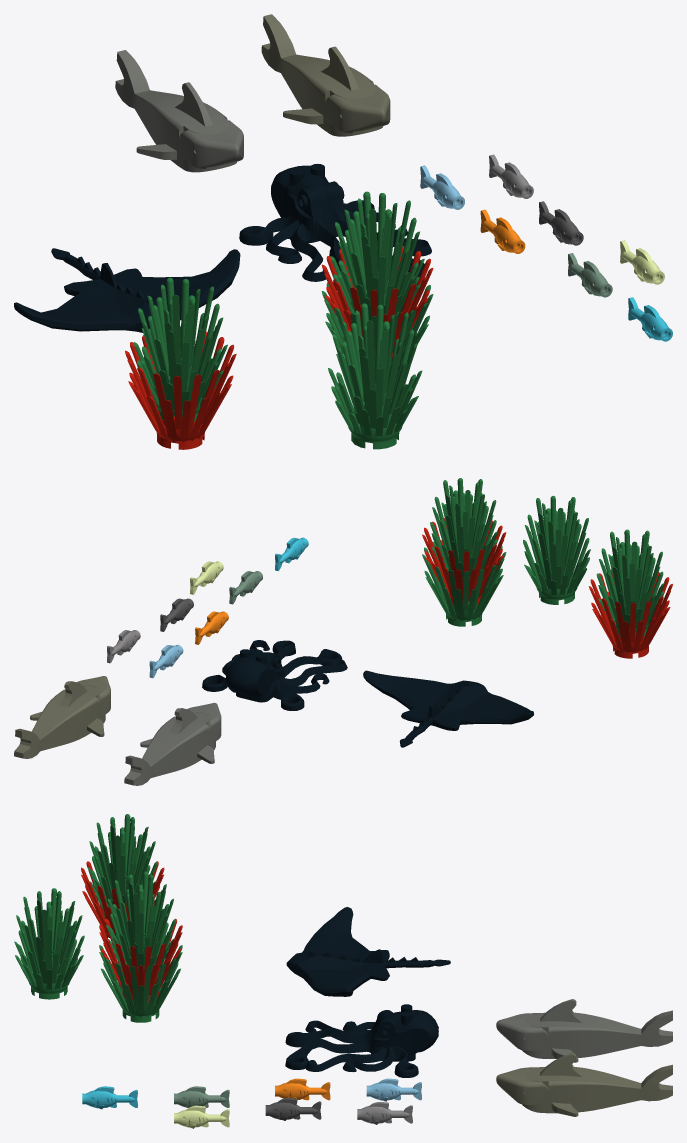
File: Octopus&Bush.dae
3 views of the same model, one above another, from view 1: azimuth 30°, elevation 25°; view 2: azimuth 150°, elevation 25°; view 3: azimuth 270°, elevation 25° (orthographic). The views are drawn at different scales.
Parts seen in each view (by area): view 1: Inner-Node-Octopus_26_Bush_dot_io-13, Inner-Node-Octopus_26_Bush_dot_io-12, Inner-Node-Octopus_26_Bush_dot_io-11, Inner-Node-Octopus_26_Bush_dot_io-10, Inner-Node-Octopus_26_Bush_dot_io-0, Inner-Node-Octopus_26_Bush_dot_io-1, Inner-Node-Octopus_26_Bush_dot_io-15, Inner-Node-Octopus_26_Bush_dot_io-2, Inner-Node-Octopus_26_Bush_dot_io-16, Inner-Node-Octopus_26_Bush_dot_io-14, Inner-Node-Octopus_26_Bush_dot_io-5, Inner-Node-Octopus_26_Bush_dot_io-3 (+5 smaller); view 2: Inner-Node-Octopus_26_Bush_dot_io-12, Inner-Node-Octopus_26_Bush_dot_io-0, Inner-Node-Octopus_26_Bush_dot_io-13, Inner-Node-Octopus_26_Bush_dot_io-10, Inner-Node-Octopus_26_Bush_dot_io-11, Inner-Node-Octopus_26_Bush_dot_io-1, Inner-Node-Octopus_26_Bush_dot_io-15, Inner-Node-Octopus_26_Bush_dot_io-2, Inner-Node-Octopus_26_Bush_dot_io-14, Inner-Node-Octopus_26_Bush_dot_io-16, Inner-Node-Octopus_26_Bush_dot_io-3, Inner-Node-Octopus_26_Bush_dot_io-6 (+5 smaller); view 3: Inner-Node-Octopus_26_Bush_dot_io-0, Inner-Node-Octopus_26_Bush_dot_io-11, Inner-Node-Octopus_26_Bush_dot_io-10, Inner-Node-Octopus_26_Bush_dot_io-12, Inner-Node-Octopus_26_Bush_dot_io-13, Inner-Node-Octopus_26_Bush_dot_io-15, Inner-Node-Octopus_26_Bush_dot_io-1, Inner-Node-Octopus_26_Bush_dot_io-14, Inner-Node-Octopus_26_Bush_dot_io-16, Inner-Node-Octopus_26_Bush_dot_io-2, Inner-Node-Octopus_26_Bush_dot_io-6, Inner-Node-Octopus_26_Bush_dot_io-3 (+5 smaller).
Part boxes in pixels (x1=…): Inner-Node-Octopus_26_Bush_dot_io-13: x1=328, y1=303, x2=422, y2=449; Inner-Node-Octopus_26_Bush_dot_io-12: x1=14, y1=248, x2=240, y2=332; Inner-Node-Octopus_26_Bush_dot_io-11: x1=261, y1=14, x2=390, y2=136; Inner-Node-Octopus_26_Bush_dot_io-10: x1=115, y1=50, x2=243, y2=172; Inner-Node-Octopus_26_Bush_dot_io-0: x1=239, y1=163, x2=431, y2=289; Inner-Node-Octopus_26_Bush_dot_io-1: x1=133, y1=277, x2=227, y2=421; Inner-Node-Octopus_26_Bush_dot_io-15: x1=330, y1=191, x2=424, y2=320; Inner-Node-Octopus_26_Bush_dot_io-2: x1=125, y1=331, x2=236, y2=449; Inner-Node-Octopus_26_Bush_dot_io-16: x1=321, y1=246, x2=433, y2=361; Inner-Node-Octopus_26_Bush_dot_io-14: x1=321, y1=277, x2=433, y2=382; Inner-Node-Octopus_26_Bush_dot_io-5: x1=480, y1=209, x2=525, y2=253; Inner-Node-Octopus_26_Bush_dot_io-3: x1=420, y1=165, x2=464, y2=209; Inner-Node-Octopus_26_Bush_dot_io-12: x1=363, y1=670, x2=533, y2=747; Inner-Node-Octopus_26_Bush_dot_io-0: x1=202, y1=640, x2=347, y2=710; Inner-Node-Octopus_26_Bush_dot_io-13: x1=523, y1=495, x2=590, y2=604; Inner-Node-Octopus_26_Bush_dot_io-10: x1=124, y1=702, x2=221, y2=785; Inner-Node-Octopus_26_Bush_dot_io-11: x1=14, y1=676, x2=110, y2=758; Inner-Node-Octopus_26_Bush_dot_io-1: x1=596, y1=529, x2=664, y2=637; Inner-Node-Octopus_26_Bush_dot_io-15: x1=430, y1=478, x2=497, y2=582; Inner-Node-Octopus_26_Bush_dot_io-2: x1=588, y1=570, x2=672, y2=658; Inner-Node-Octopus_26_Bush_dot_io-14: x1=422, y1=540, x2=506, y2=626; Inner-Node-Octopus_26_Bush_dot_io-16: x1=422, y1=518, x2=506, y2=605; Inner-Node-Octopus_26_Bush_dot_io-3: x1=149, y1=644, x2=183, y2=678; Inner-Node-Octopus_26_Bush_dot_io-6: x1=160, y1=598, x2=193, y2=631; Inner-Node-Octopus_26_Bush_dot_io-0: x1=285, y1=1004, x2=438, y2=1077; Inner-Node-Octopus_26_Bush_dot_io-11: x1=496, y1=1053, x2=672, y2=1116; Inner-Node-Octopus_26_Bush_dot_io-10: x1=496, y1=999, x2=672, y2=1062; Inner-Node-Octopus_26_Bush_dot_io-12: x1=286, y1=907, x2=450, y2=996; Inner-Node-Octopus_26_Bush_dot_io-13: x1=14, y1=888, x2=84, y2=999; Inner-Node-Octopus_26_Bush_dot_io-15: x1=106, y1=871, x2=176, y2=978; Inner-Node-Octopus_26_Bush_dot_io-1: x1=87, y1=814, x2=157, y2=918; Inner-Node-Octopus_26_Bush_dot_io-14: x1=99, y1=935, x2=182, y2=1022; Inner-Node-Octopus_26_Bush_dot_io-16: x1=99, y1=918, x2=182, y2=1001; Inner-Node-Octopus_26_Bush_dot_io-2: x1=81, y1=861, x2=164, y2=938; Inner-Node-Octopus_26_Bush_dot_io-6: x1=265, y1=1098, x2=321, y2=1120; Inner-Node-Octopus_26_Bush_dot_io-3: x1=366, y1=1078, x2=421, y2=1101.
Size of the model in its own units: 543 by 164 by 719.
